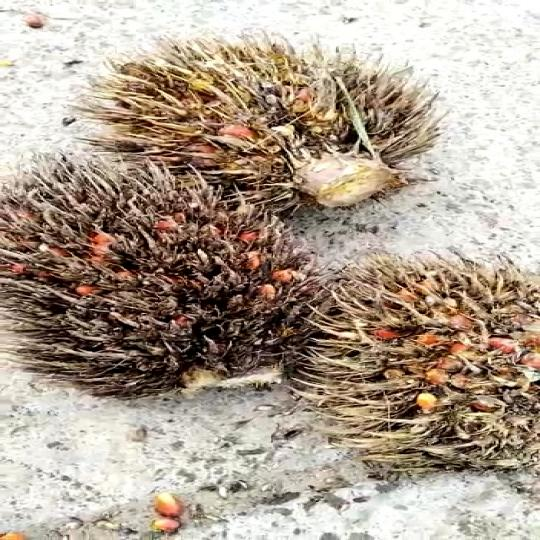terlalu masak: (0, 163, 355, 408), (96, 39, 451, 209), (308, 251, 540, 486)
